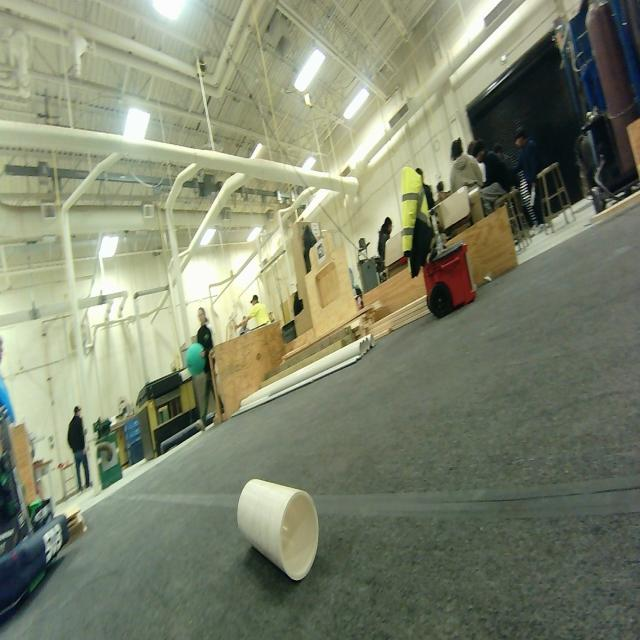algae: (184, 340, 209, 380)
coral: (227, 468, 327, 584)
